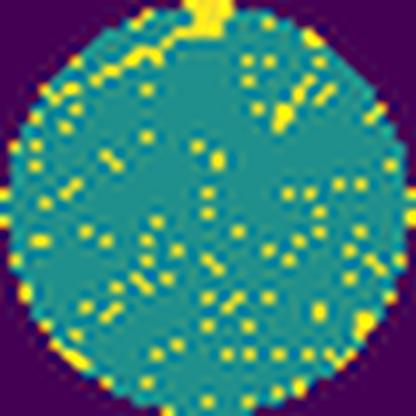Edge-Loc: (87, 0, 240, 93)
